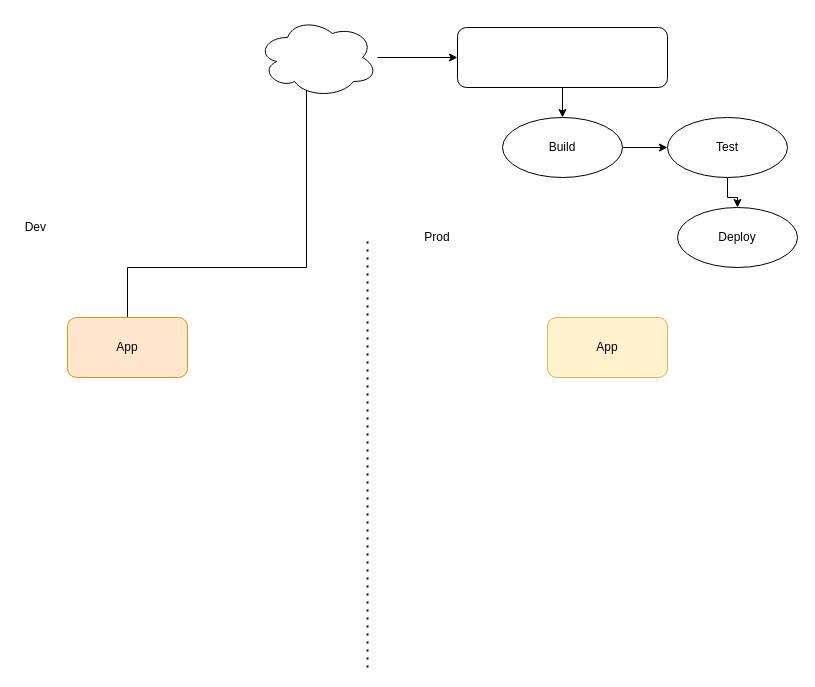
Some shapes in this 815 by 687 pixel diagram are drawn without their labels. The shapes that lost their labels are listed below. From the top down, each one's centre as x and y in pixels, then its label:
the point at 317,57: Github
the point at 562,57: CI/CD Jenkins/ Travis CI/ Cloud Build
